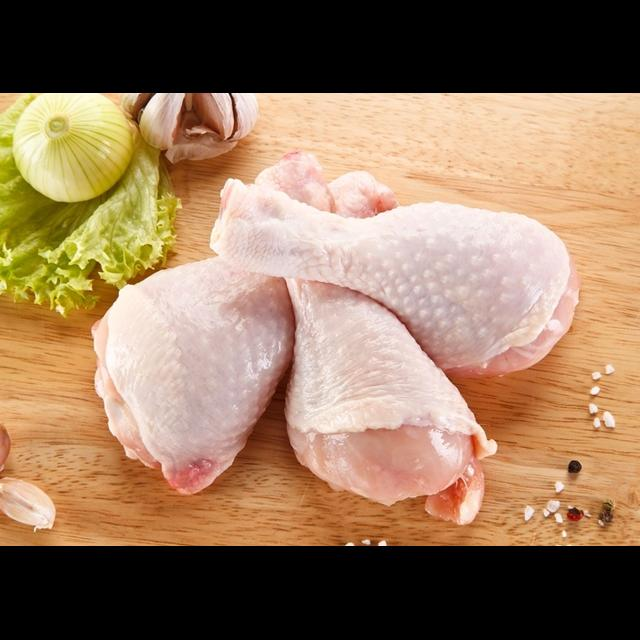chicken: (92, 171, 396, 495), (254, 151, 498, 526), (208, 178, 582, 376)
